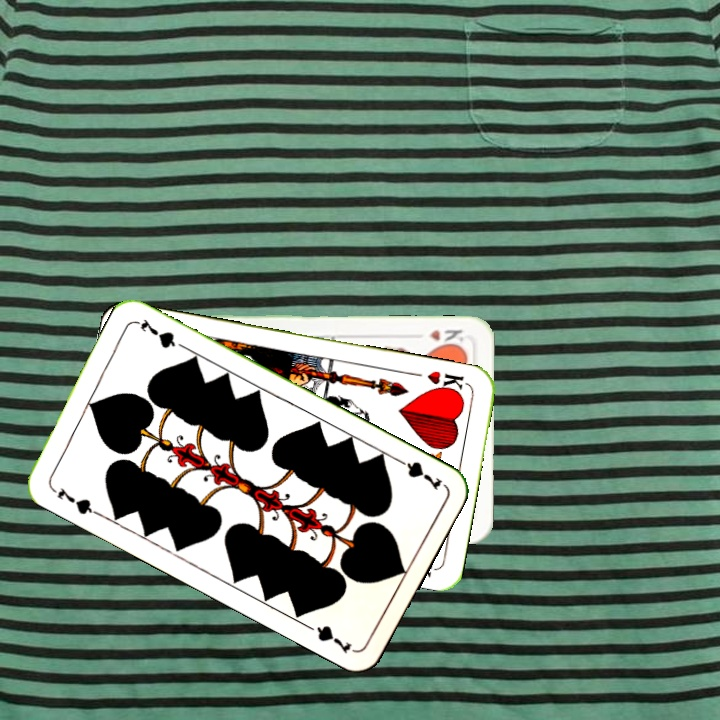G7: (390, 453, 445, 493), (46, 481, 100, 518)
HK: (423, 366, 470, 397), (425, 325, 468, 350)
